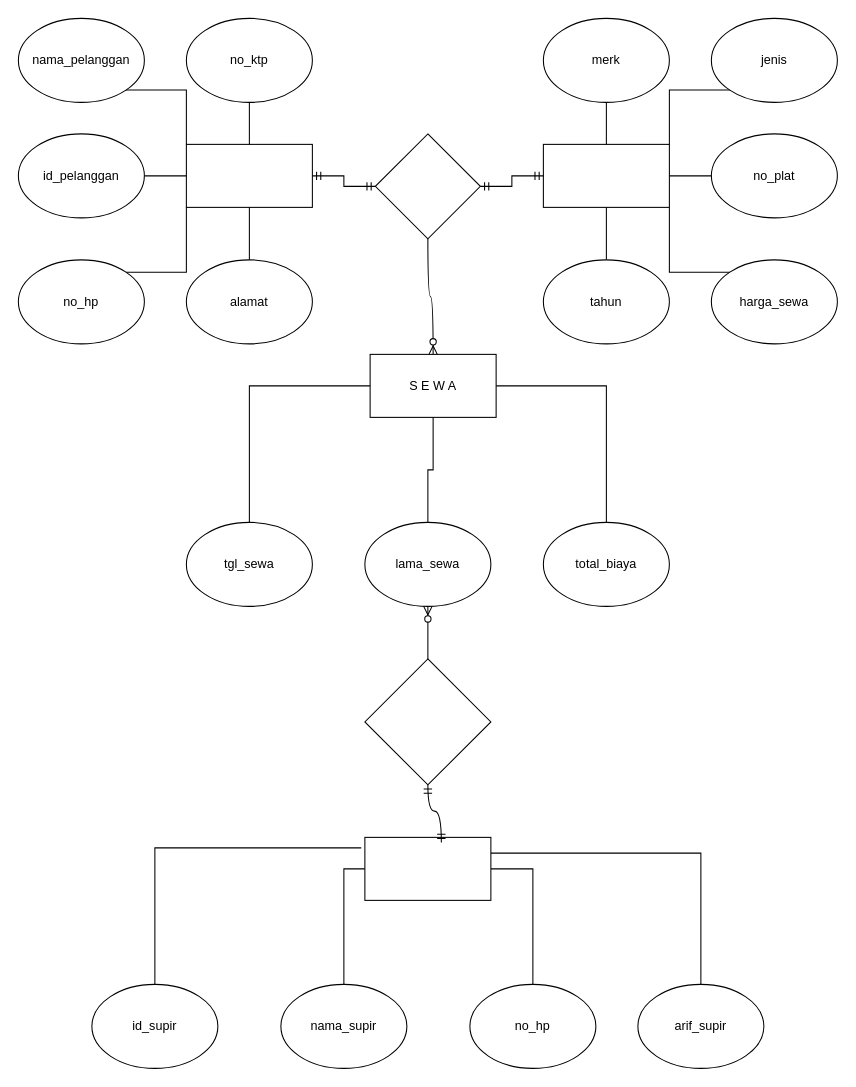
This 856x1087 diagram has some shape labels left out. The box of each missing label's shape, as (x1, y1, x2, y2) in pixels:
m e l a k u k a n: (374, 133, 480, 239)
m e n g e n d a r a i: (364, 658, 491, 785)
MOBIL: (542, 143, 669, 207)
PELANGGAN: (185, 143, 312, 207)
SUPIR: (364, 836, 491, 900)
